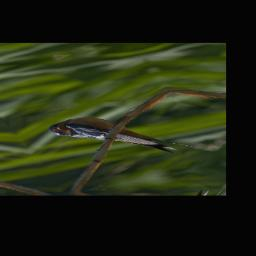Swallow: (44, 101, 202, 172)
